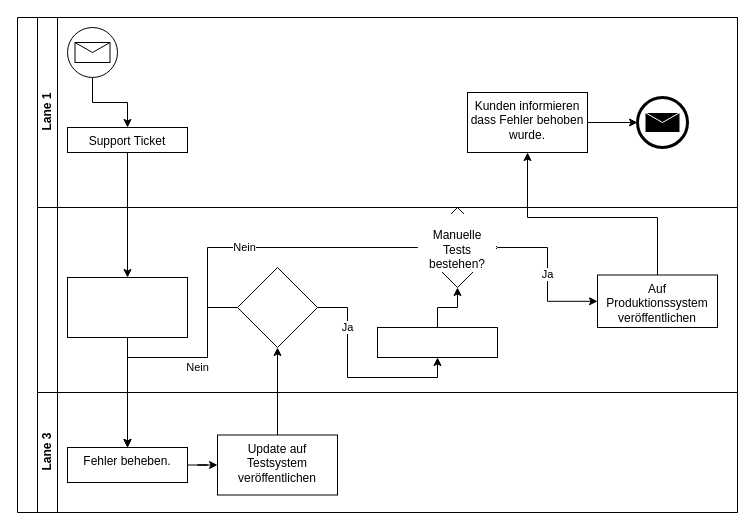
Some shapes in this 755 by 530 pixel diagram are drawn without their labels. The centre of each missing label's shape, as x and y in pixels:
"Automatische Tests bestanden?" belongs at point 277,307.
"Customer Incident" belongs at point 92,52.
"Fehler reproduzieren, weitere Daten evtl. Schritte notieren." belongs at point 127,307.
"Manuel Testen" belongs at point 437,342.
